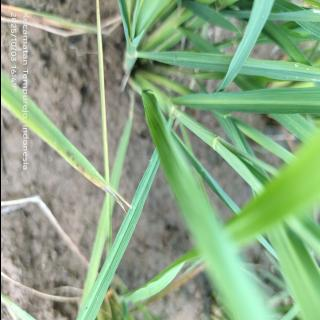Blast: (76, 161, 86, 175)
